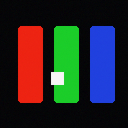1 square: (51, 72, 63, 84)
